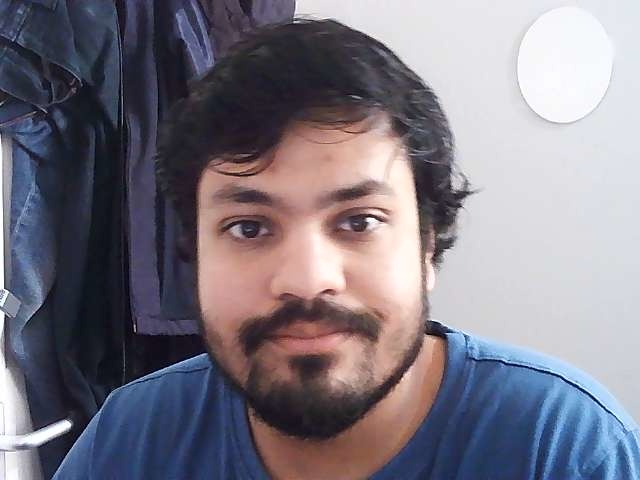Face: (160, 10, 449, 427)
